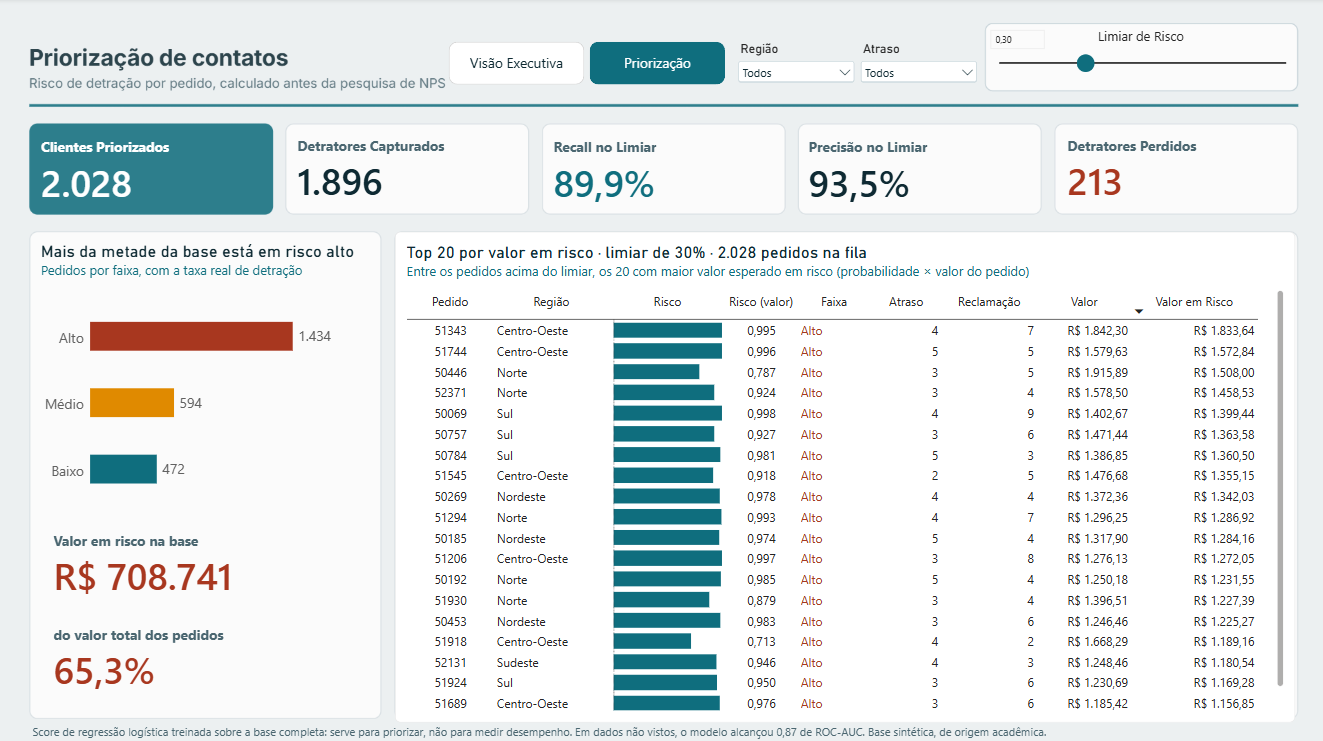

The dashboard page shown, as its layout file describes it:
{"tool":"powerbi","page":{"name":"Priorização","canvas":[1920,1080],"ordinal":1},"visuals":[{"type":"slicer","fields":{"Values":["Limiar.Limiar"]},"box":[1426,41.6,454.2,95.9],"z":0},{"type":"slicer","fields":{"Values":["Pedidos.customer_region"]},"box":[1064.1,63.3,178,62.1],"z":1000},{"type":"slicer","fields":{"Values":["Pedidos.Faixa de Atraso"]},"box":[1241.4,63.3,178,62.1],"z":2000},{"type":"pageNavigator","box":[649.7,63.3,400,62],"z":3000},{"type":"cardVisual","fields":{"Data":["_Medidas.Detratores Pedidos"]},"box":[1529.3,182.3,345.8,135.8],"z":4000},{"type":"cardVisual","fields":{"Data":["_Medidas.Clientes Priorizados"]},"box":[43.2,182.3,352,140],"z":5000},{"type":"cardVisual","fields":{"Data":["_Medidas.Detratores Capturados"]},"box":[413.7,182.3,347.9,135.8],"z":6000},{"type":"cardVisual","fields":{"Data":["_Medidas.Recall no Limiar"]},"box":[786.3,182.3,349.9,140],"z":7000},{"type":"cardVisual","fields":{"Data":["_Medidas.Precisão no Limiar"]},"box":[1154.7,182.3,352,140],"z":8000},{"type":"textbox","box":[1425.3,41.6,451.3,41.6],"z":9000},{"type":"barChart","title":"Mais da metade da base está em risco alto","fields":{"Category":["Pedidos.faixa_risco"],"Y":["_Medidas.Pedidos"]},"box":[43.4,338.4,512.1,425.3],"z":10000},{"type":"tableEx","fields":{"Values":["Pedidos.order_id","Pedidos.customer_region","Pedidos.prob_detrator","_Medidas.Risco (valor)","Pedidos.faixa_risco","Pedidos.delivery_delay_days","Pedidos.complaints_count","Pedidos.order_value","_Medidas.Valor em Risco"]},"box":[571.7,338.3,1303.3,710],"z":11000},{"type":"cardVisual","fields":{"Data":["_Medidas.Valor em Risco (card)"]},"box":[61.7,755.4,475.5,135.8],"z":12000},{"type":"cardVisual","fields":{"Data":["_Medidas.% do Valor em Risco"]},"box":[61.7,891.3,475.5,135.8],"z":13000},{"type":"textbox","box":[47.4,1051.4,1828.3,27.1],"z":13001}]}

Visuals, with their boxes in screenshot pixels (x1, y1, x2, y2), scaled from the page's 1920x1080 canvas onto the 1323x741 screenshot:
slicer - Limiar.Limiar: (left=983, top=29, right=1296, bottom=94)
slicer - Pedidos.customer_region: (left=733, top=43, right=856, bottom=86)
slicer - Pedidos.Faixa de Atraso: (left=855, top=43, right=978, bottom=86)
pageNavigator: (left=448, top=43, right=723, bottom=86)
cardVisual - _Medidas.Detratores Pedidos: (left=1054, top=125, right=1292, bottom=218)
cardVisual - _Medidas.Clientes Priorizados: (left=30, top=125, right=272, bottom=221)
cardVisual - _Medidas.Detratores Capturados: (left=285, top=125, right=525, bottom=218)
cardVisual - _Medidas.Recall no Limiar: (left=542, top=125, right=783, bottom=221)
cardVisual - _Medidas.Precisão no Limiar: (left=796, top=125, right=1038, bottom=221)
textbox: (left=982, top=29, right=1293, bottom=57)
"Mais da metade da base está em risco alto" barChart: (left=30, top=232, right=383, bottom=524)
tableEx - Pedidos.order_id x Pedidos.customer_region: (left=394, top=232, right=1292, bottom=719)
cardVisual - _Medidas.Valor em Risco (card): (left=43, top=518, right=370, bottom=611)
cardVisual - _Medidas.% do Valor em Risco: (left=43, top=612, right=370, bottom=705)
textbox: (left=33, top=721, right=1292, bottom=740)
